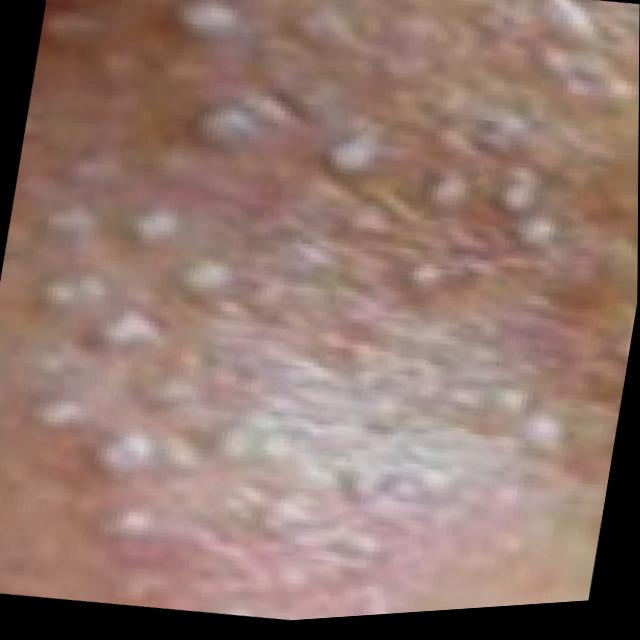whitehead: (5, 0, 640, 625)
